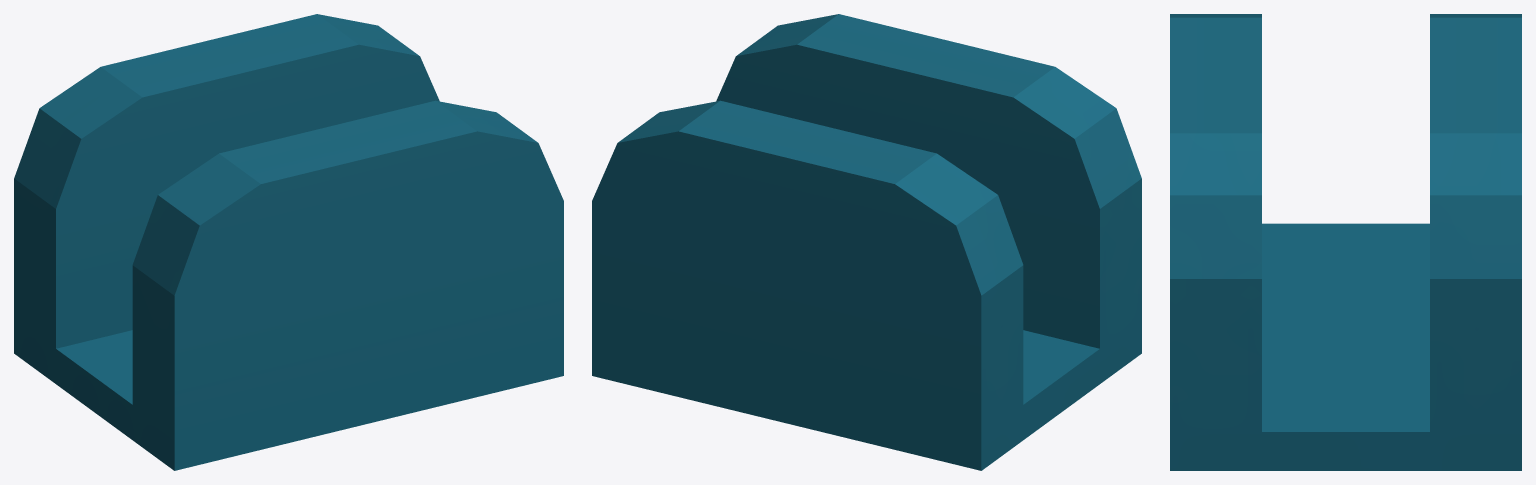
File: napkin-holder.glb
The picture shows the model from 3 angles, left to right: view 1: azimuth 30°, elevation 25°; view 2: azimuth 150°, elevation 25°; view 3: azimuth 270°, elevation 25°; orthographic projection. The views are drawn at different scales.
Visible parts, largest first — view 1: NapkinHolder.001; view 2: NapkinHolder.001; view 3: NapkinHolder.001.
Part boxes in pixels (x1,y1,x2,y2): NapkinHolder.001: (14, 14, 563, 470); NapkinHolder.001: (592, 14, 1141, 470); NapkinHolder.001: (1170, 14, 1521, 470).
Bounding box in the file's own units: 0.1 × 0.0652 × 0.0713.
Materials: 1 (1 with a texture image).
